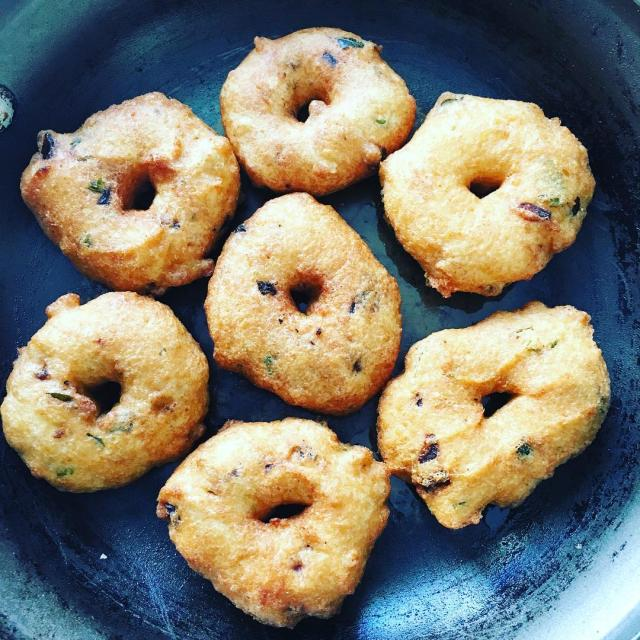Wet Waste: (382, 304, 610, 517), (156, 406, 387, 614), (5, 288, 211, 485), (205, 199, 396, 396), (382, 114, 588, 294), (27, 101, 241, 270), (214, 31, 418, 190)
